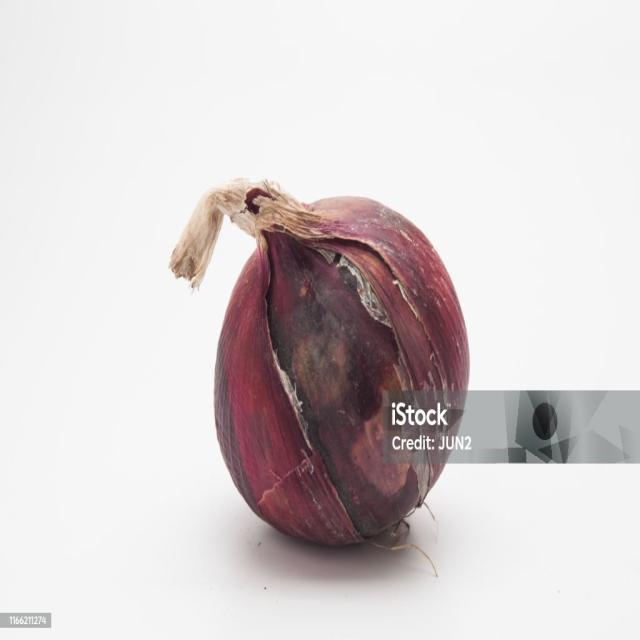rotten: (133, 176, 489, 578)
